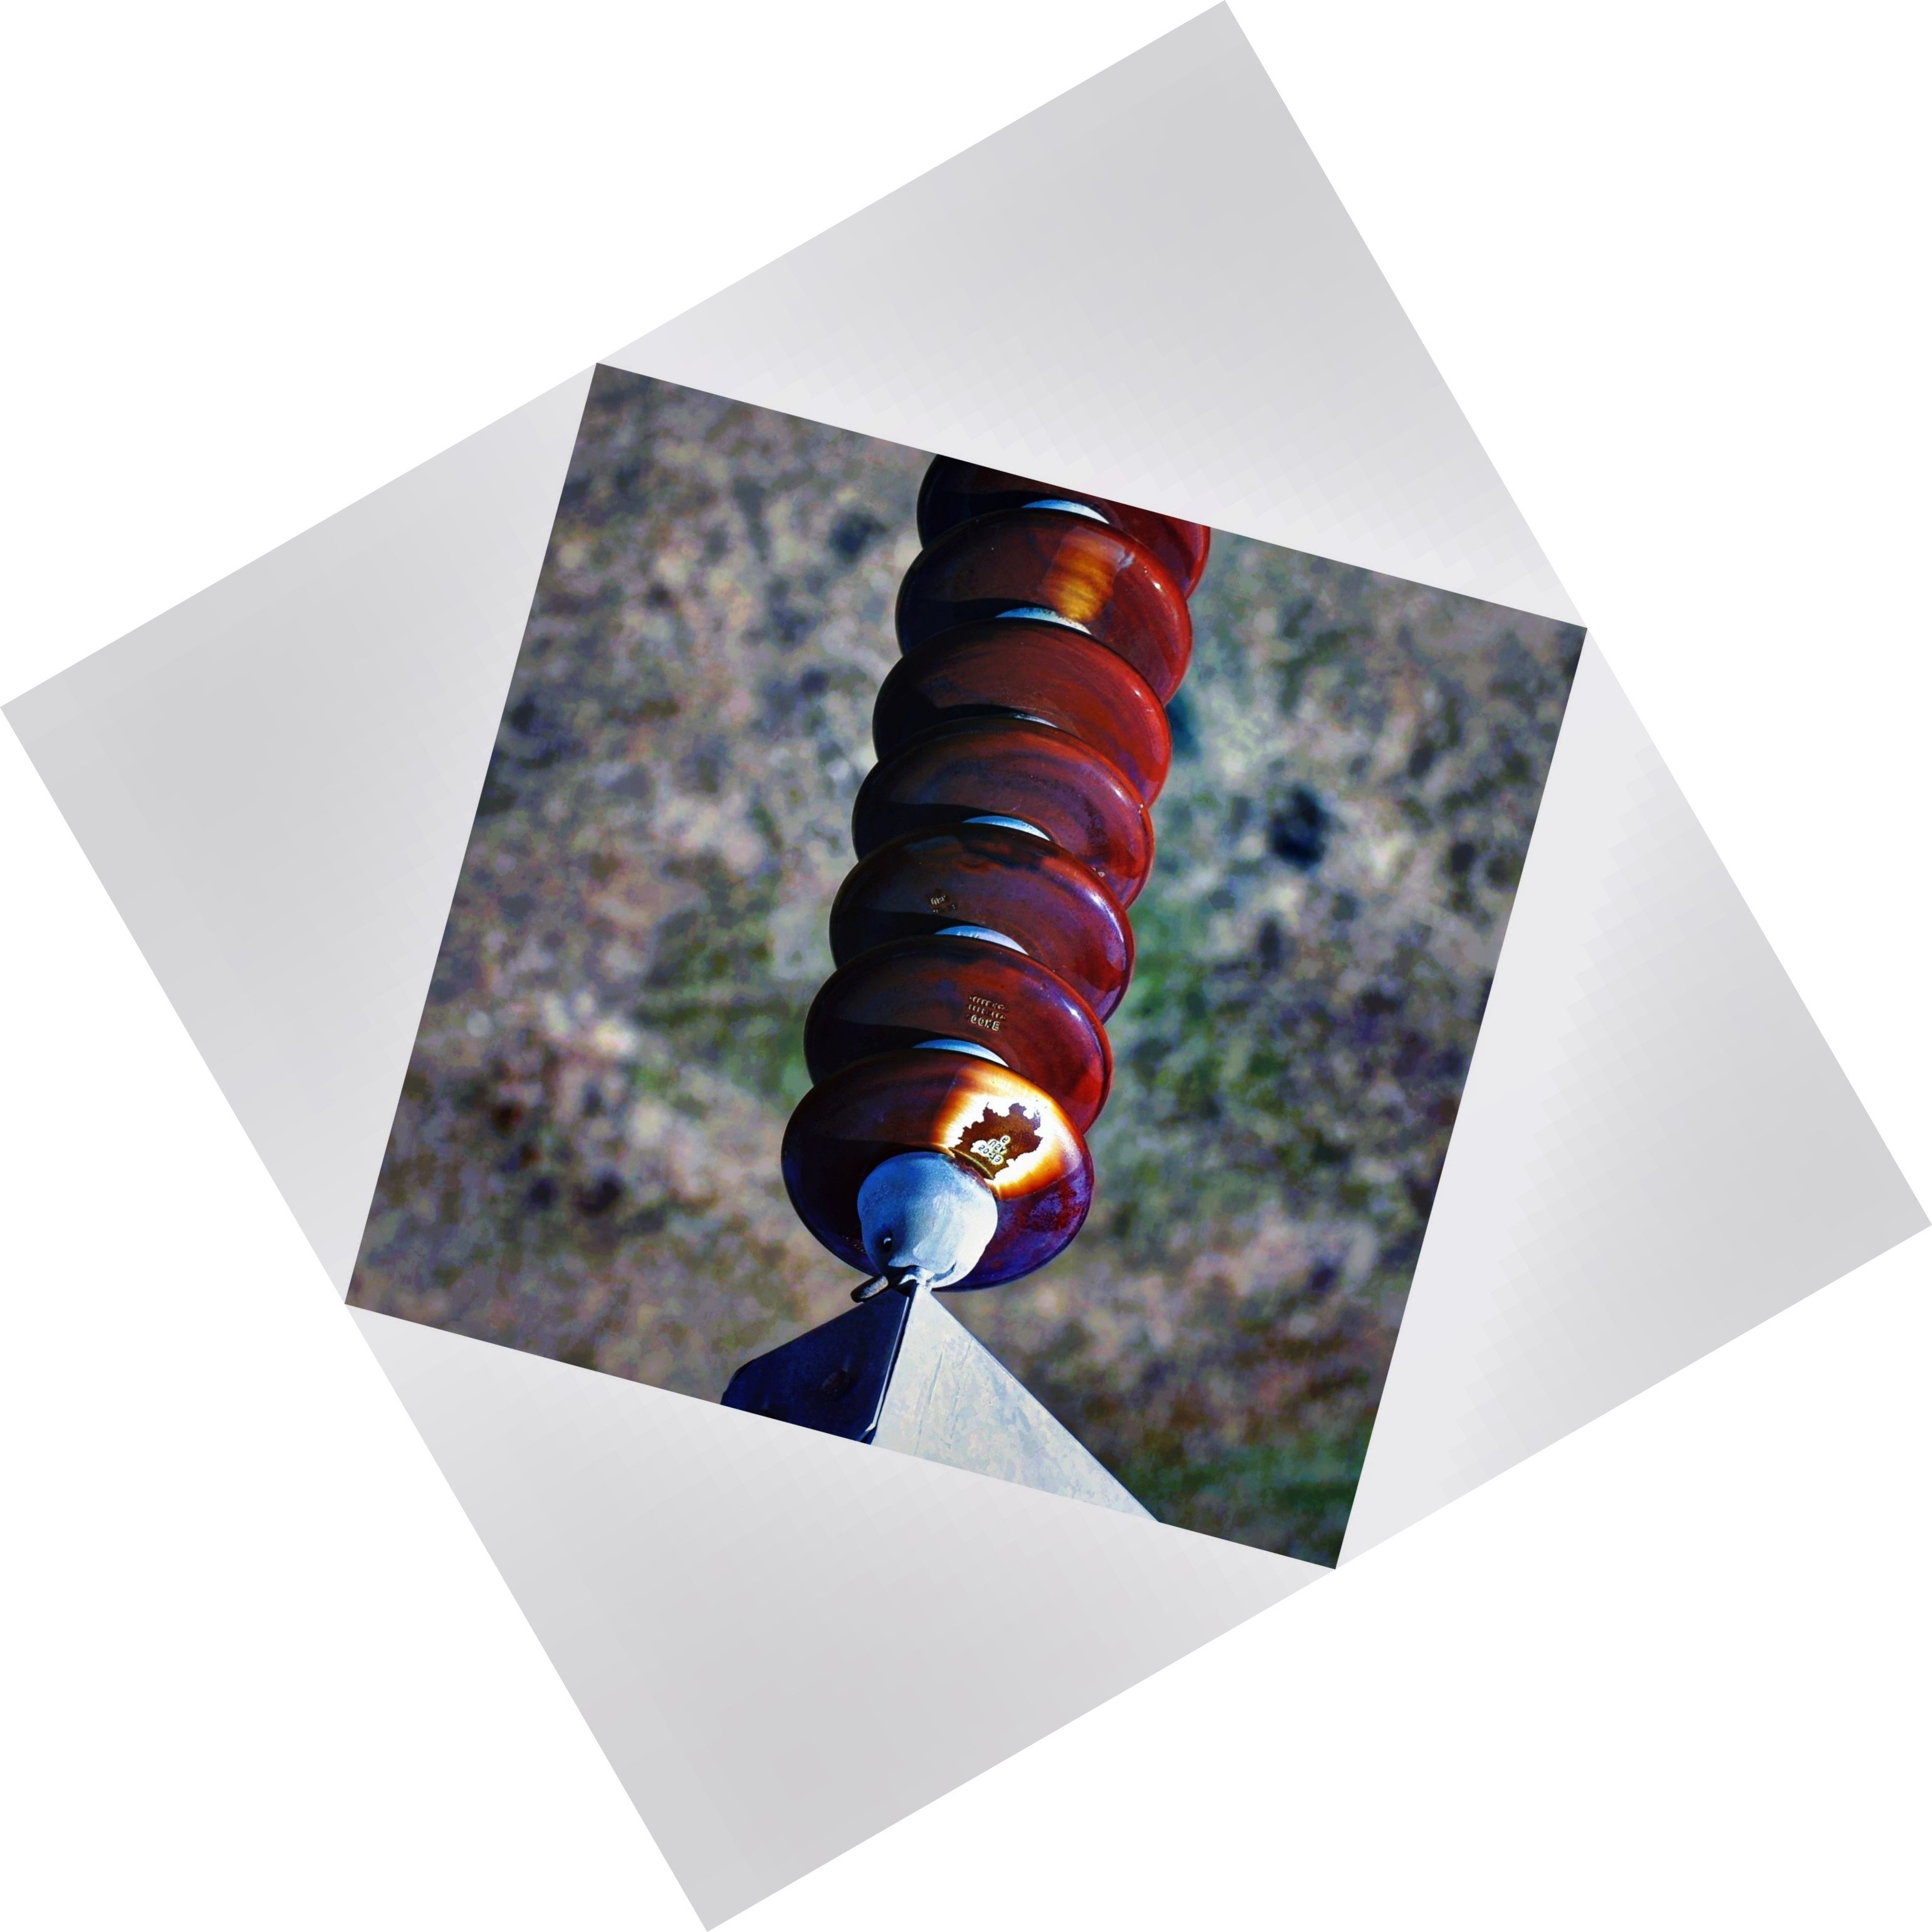Insulator flashover: (766, 1039, 1104, 1299)
